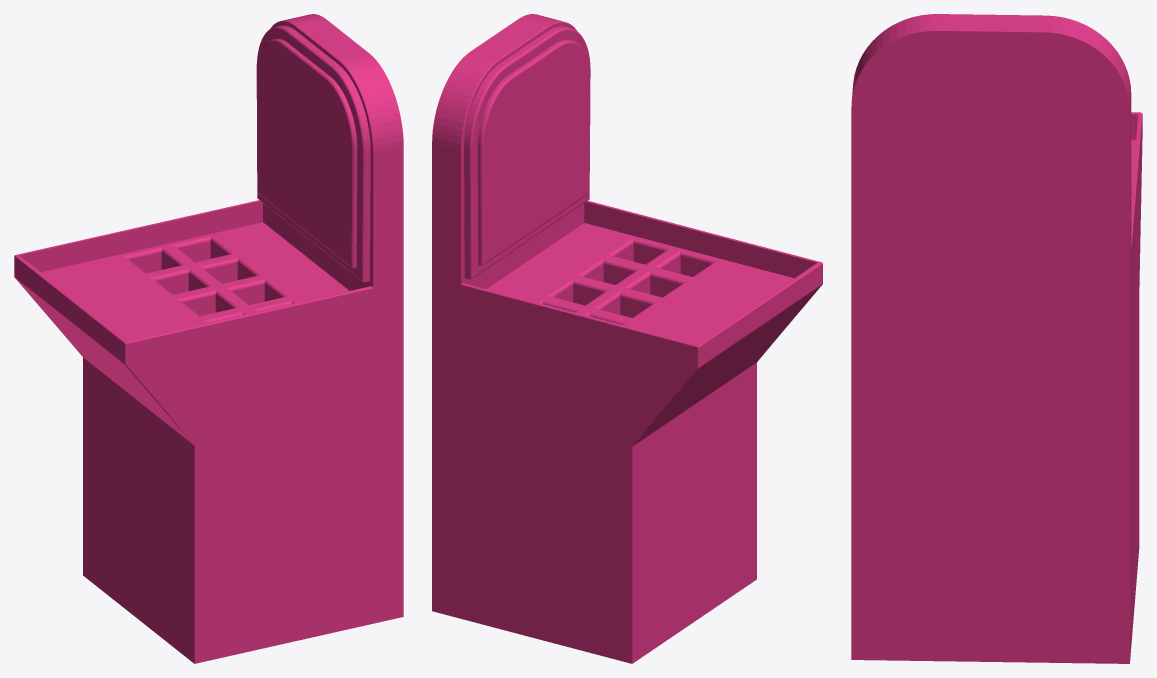
The model's file is Platform.fbx.
3 views of the same model, side by side, from view 1: azimuth 30°, elevation 25°; view 2: azimuth 150°, elevation 25°; view 3: azimuth 270°, elevation 25° (orthographic). The views are drawn at different scales.
Parts seen in each view (by area): view 1: Cube_Material_0; view 2: Cube_Material_0; view 3: Cube_Material_0.
Part boxes in pixels (bbox=[...]): Cube_Material_0: bbox=[14, 14, 403, 663]; Cube_Material_0: bbox=[432, 14, 822, 663]; Cube_Material_0: bbox=[851, 14, 1142, 663].
Bounding box in the file's own units: 531 × 971 × 406.
